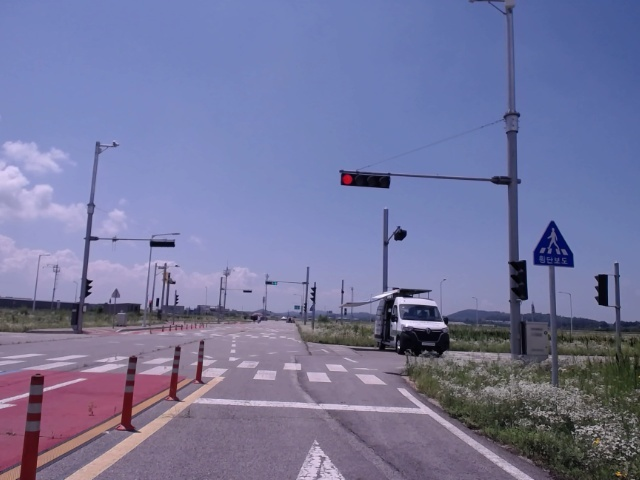red_4: (341, 174, 390, 188)
